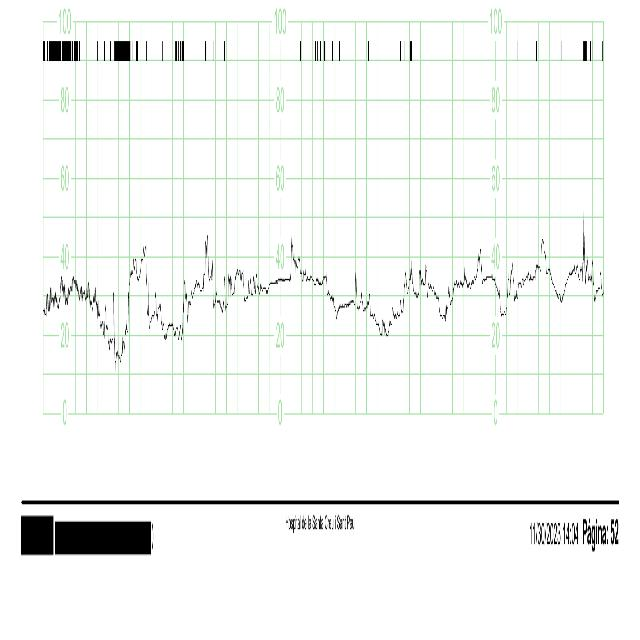contraction: (120, 243, 152, 357)
